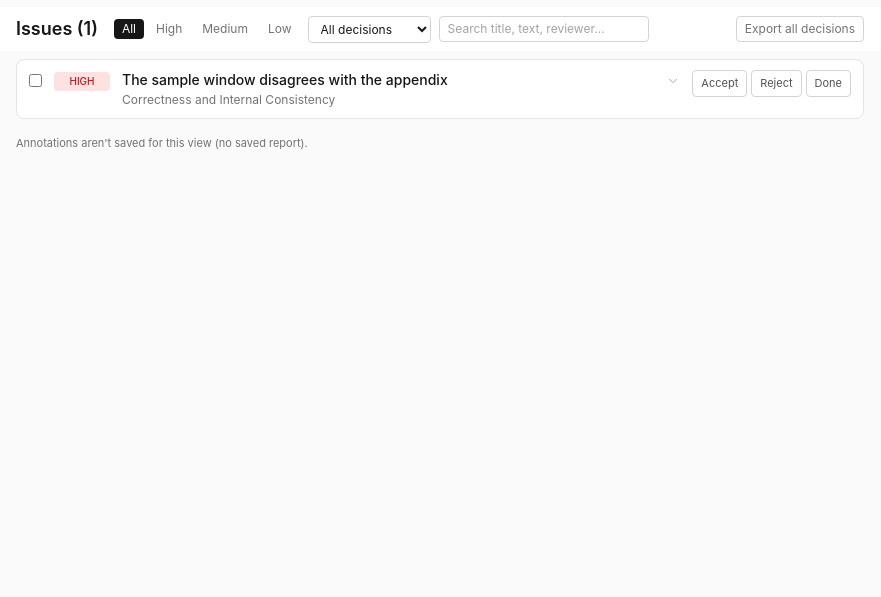
Test: IssuesTable outside-source evidence › shows reviewers on a real findings-v2 finding and finds them by search
This screenshot has width=881, height=597.
In the field named "Search issues": (544, 29) top-left (439, 16), bottom-right (649, 42), type "identification review"
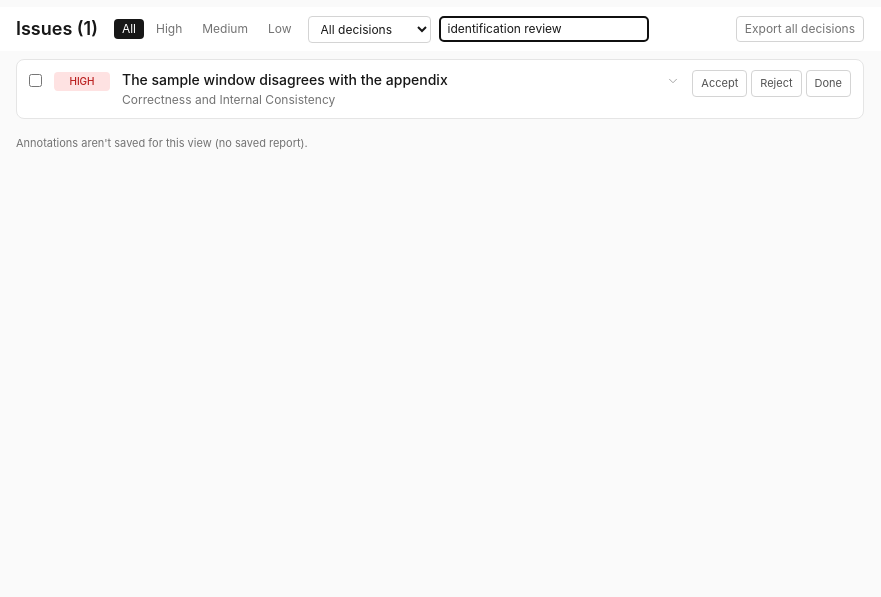
Click the button "The sample window": (401, 89) top-left (122, 70), bottom-right (680, 108)
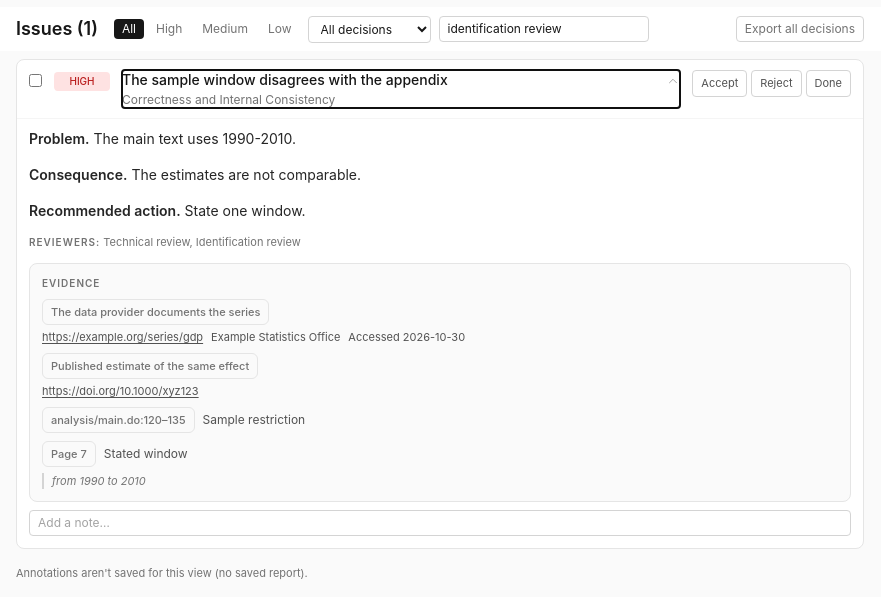
Now the text "Technical review, Identification review" is shown, box top-left (103, 235), bottom-right (301, 249)
